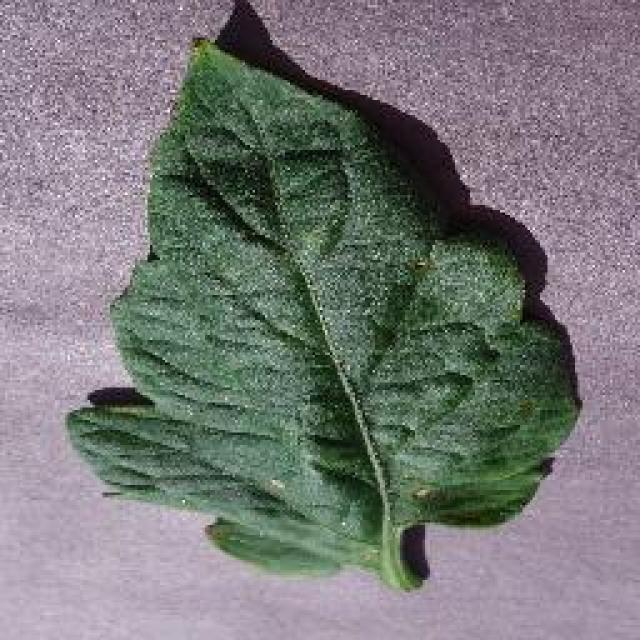Tomato___Target_Spot: (68, 42, 575, 585)
